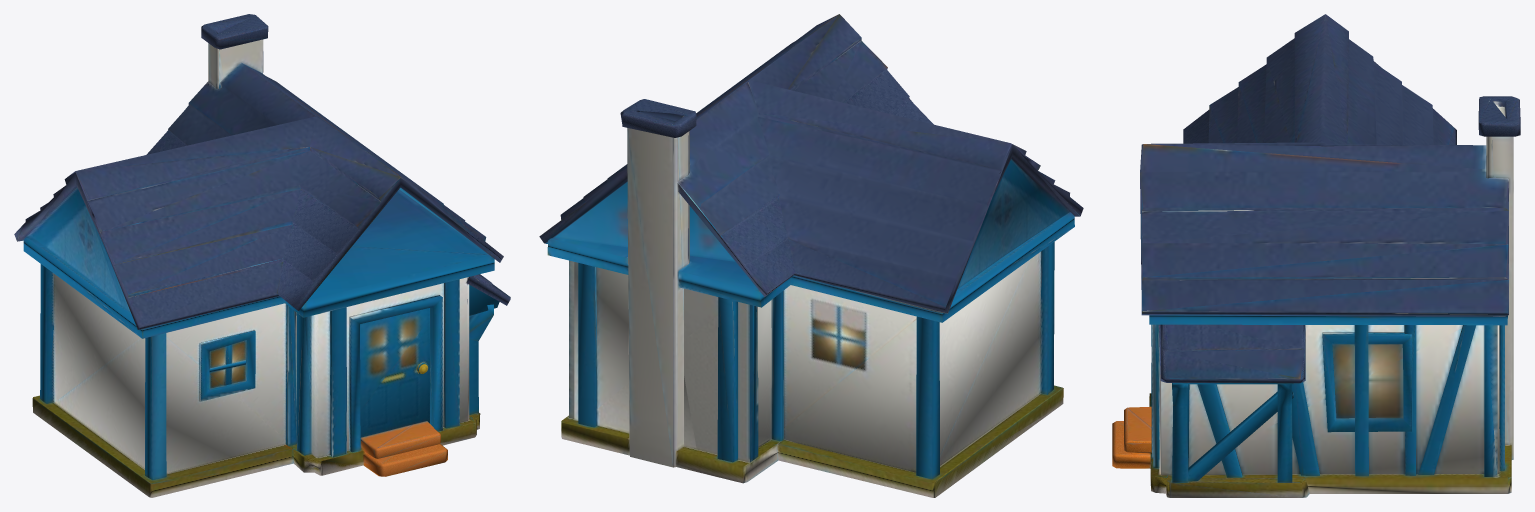
The model's file is azure-cottage.glb.
The picture shows the model from 3 angles, left to right: view 1: azimuth 30°, elevation 25°; view 2: azimuth 150°, elevation 25°; view 3: azimuth 270°, elevation 25°; orthographic projection. The views are drawn at different scales.
Bounding box in the file's own units: 0.9482 × 0.7847 × 0.8555.
Materials: 1 (1 with a texture image).
